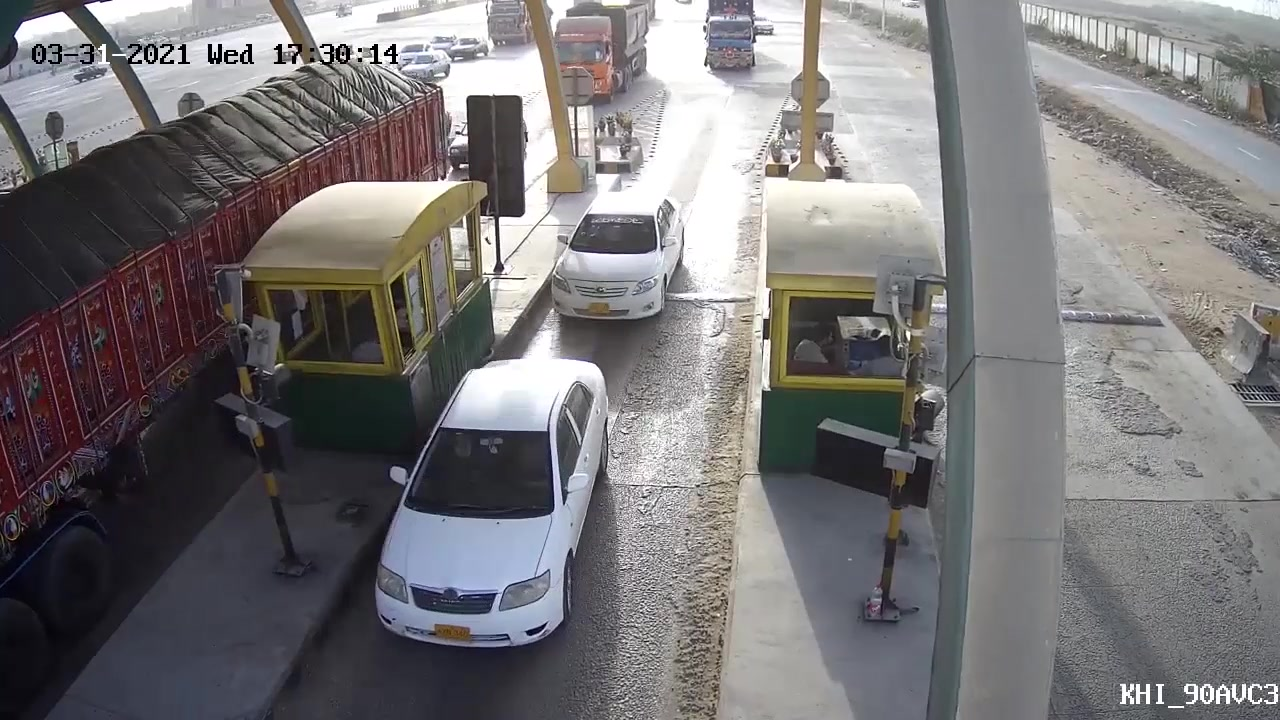F1: (376, 356, 614, 649), (538, 179, 697, 329)
